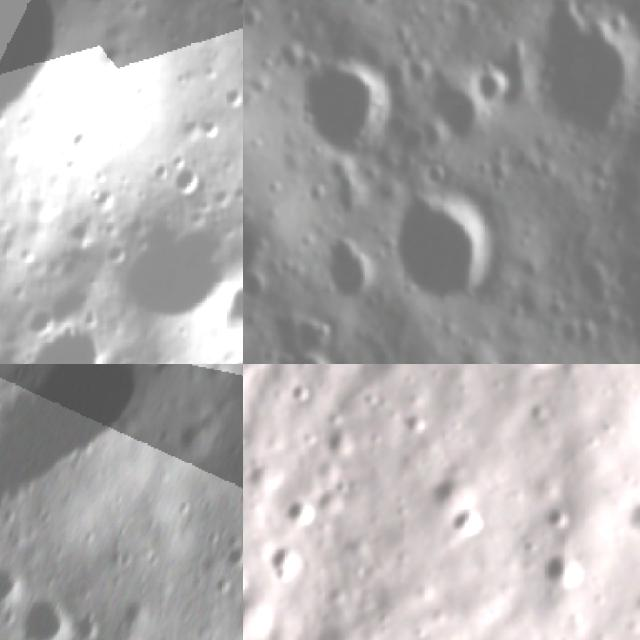crater: (0, 364, 143, 516), (532, 8, 640, 145), (388, 197, 507, 312), (300, 57, 403, 169), (184, 265, 243, 364), (426, 78, 492, 154), (12, 318, 115, 364), (320, 232, 380, 310), (516, 540, 587, 599), (16, 598, 82, 640), (566, 251, 615, 305), (469, 61, 518, 110), (158, 158, 203, 208), (450, 493, 493, 544), (275, 487, 320, 532), (417, 462, 461, 508), (0, 557, 37, 608), (260, 540, 304, 582), (268, 340, 341, 364), (514, 391, 556, 426), (615, 309, 640, 364), (620, 486, 640, 550), (445, 0, 483, 33), (243, 260, 270, 305), (330, 190, 362, 222), (243, 2, 269, 36)
